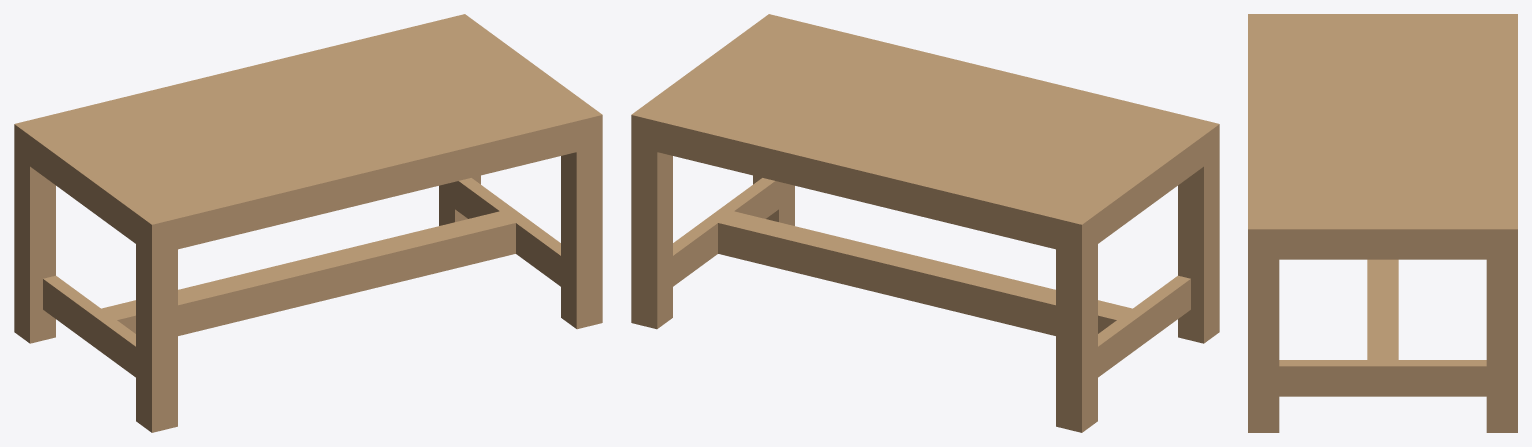
The model's file is table-dining-6.glb.
The picture shows the model from 3 angles, left to right: view 1: azimuth 30°, elevation 25°; view 2: azimuth 150°, elevation 25°; view 3: azimuth 270°, elevation 25°; orthographic projection. The views are drawn at different scales.
Visible parts, largest first — view 1: table-dining-6; view 2: table-dining-6; view 3: table-dining-6.
Boxes of the visible parts, x1,y1,x2,y2 form: table-dining-6: (14, 14, 602, 432); table-dining-6: (631, 14, 1219, 432); table-dining-6: (1248, 14, 1517, 432).
Size of the model in its own units: 1.7 by 0.75 by 0.9.
